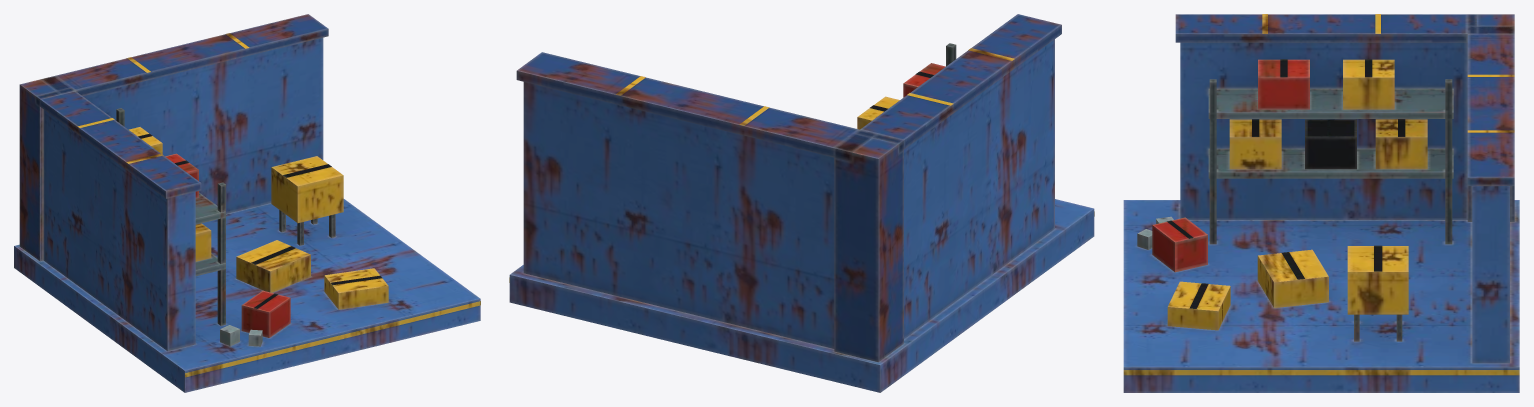
Rendered from basic_storage.glb.
The picture shows the model from 3 angles, left to right: view 1: azimuth 30°, elevation 25°; view 2: azimuth 150°, elevation 25°; view 3: azimuth 270°, elevation 25°; orthographic projection. The views are drawn at different scales.
Visible parts, largest first — view 1: te_basic_storage; view 2: te_basic_storage; view 3: te_basic_storage.
Boxes of the visible parts, left/top/right/bottom form: te_basic_storage: left=14, top=14, right=480, bottom=392; te_basic_storage: left=509, top=14, right=1094, bottom=392; te_basic_storage: left=1123, top=14, right=1519, bottom=392.
Bounding box in the file's own units: 0.8406 × 0.5006 × 0.8406.
1 material, 1 textured.
